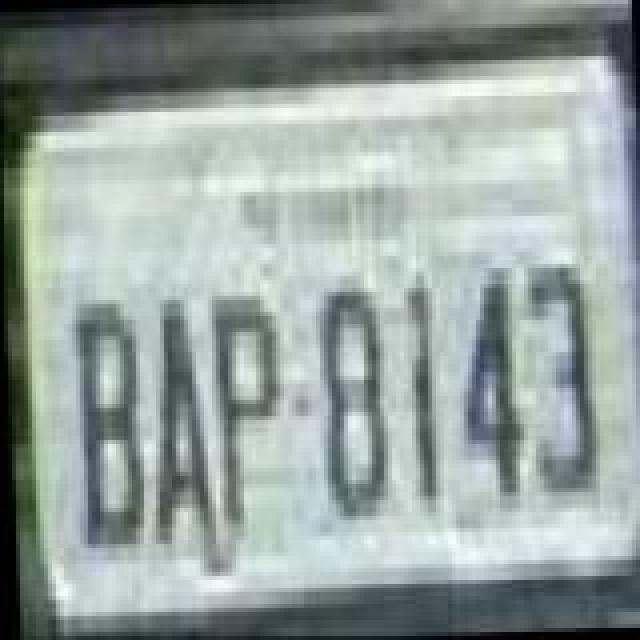1: (394, 272, 442, 516)
3: (516, 248, 600, 512)
4: (452, 260, 528, 508)
8: (308, 274, 392, 522)
A: (138, 288, 214, 552)
B: (70, 292, 146, 556)
P: (210, 284, 286, 532)
